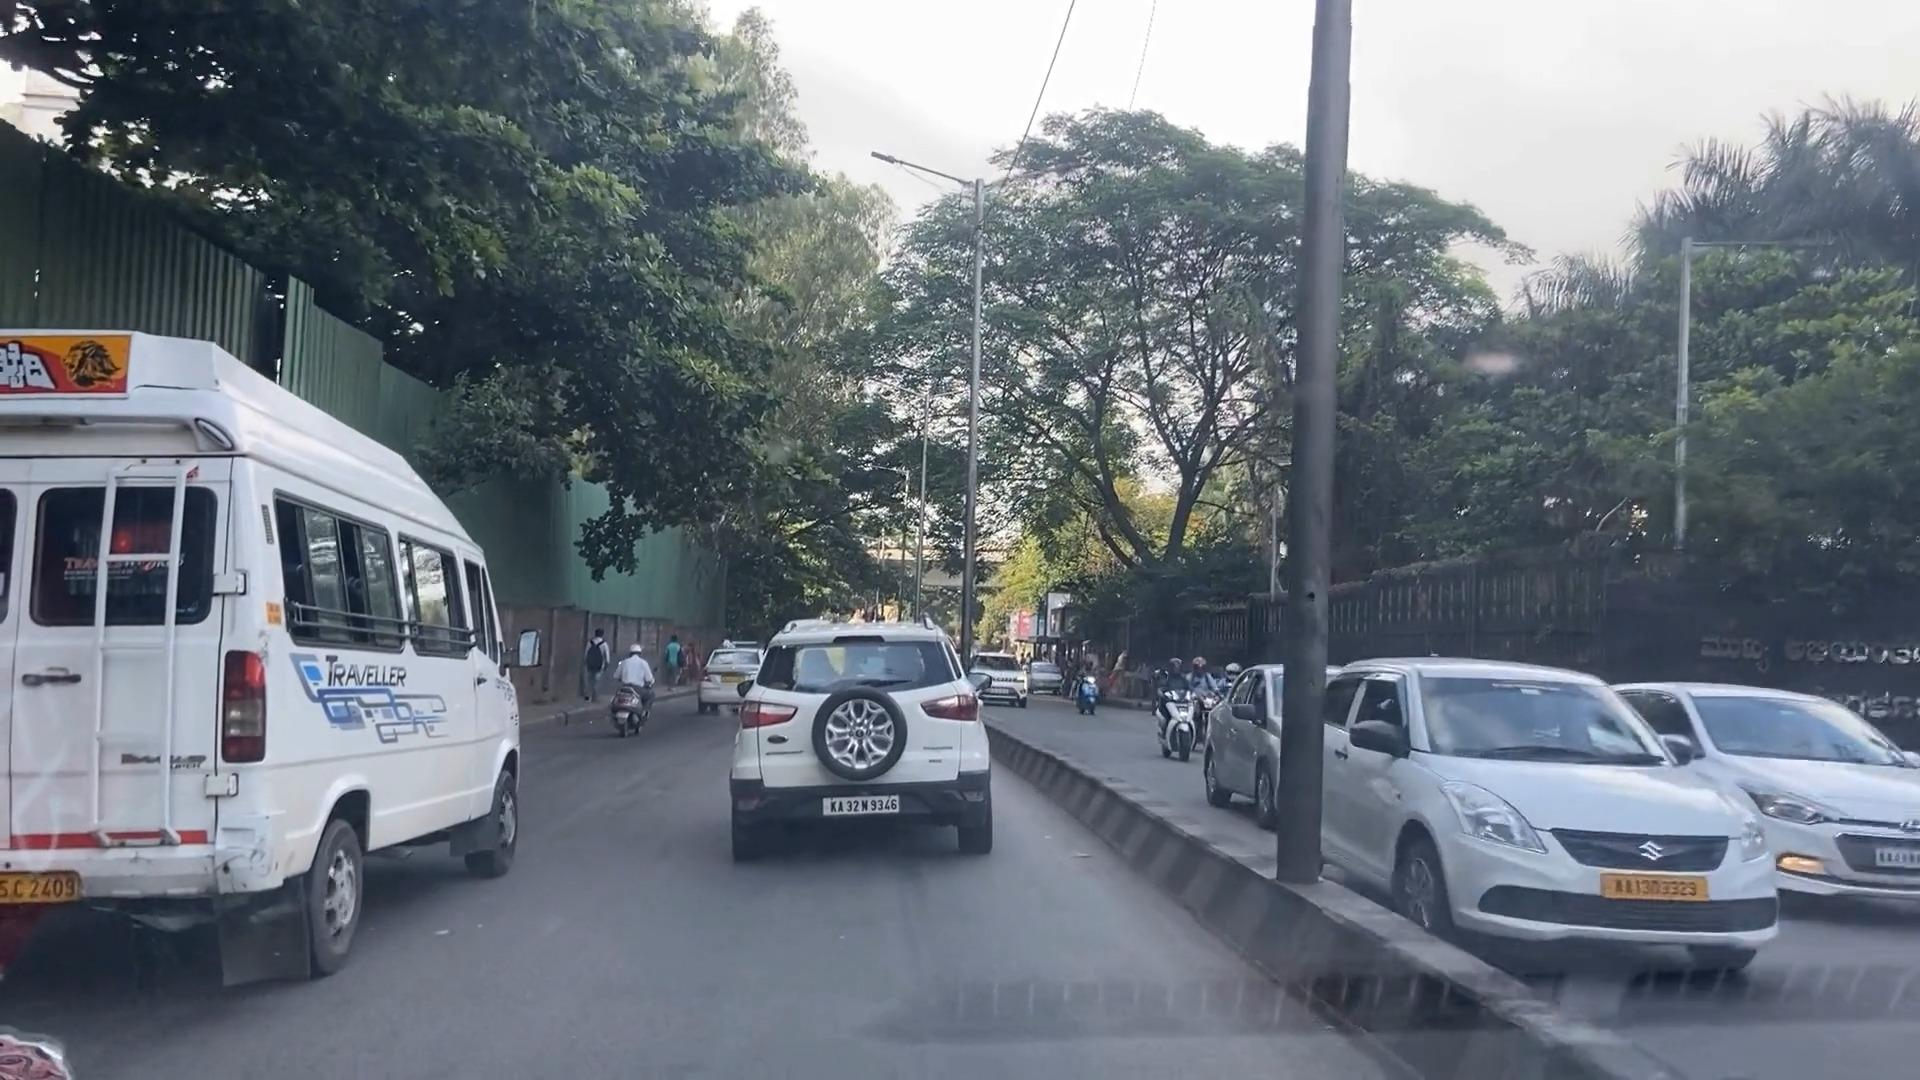HMV: (0, 334, 527, 978)
LMV: (717, 630, 1004, 877)
